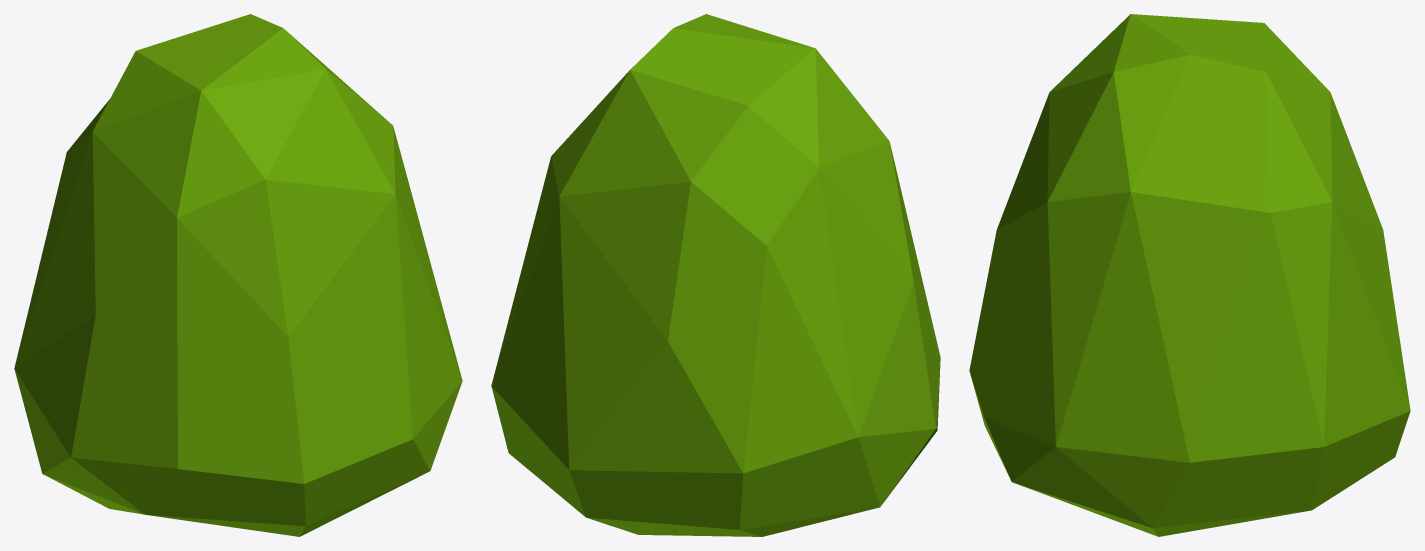
Rendered from Bush_07.fbx.
3 views of the same model, side by side, from view 1: azimuth 30°, elevation 25°; view 2: azimuth 150°, elevation 25°; view 3: azimuth 270°, elevation 25° (orthographic).
Parts seen in each view (by area): view 1: Bush_07; view 2: Bush_07; view 3: Bush_07.
Part boxes in pixels (left/top/right/bottom): Bush_07: left=14, top=14, right=462, bottom=536; Bush_07: left=491, top=14, right=940, bottom=536; Bush_07: left=969, top=14, right=1410, bottom=536.
Bounding box in the file's own units: 127 × 145 × 127.
